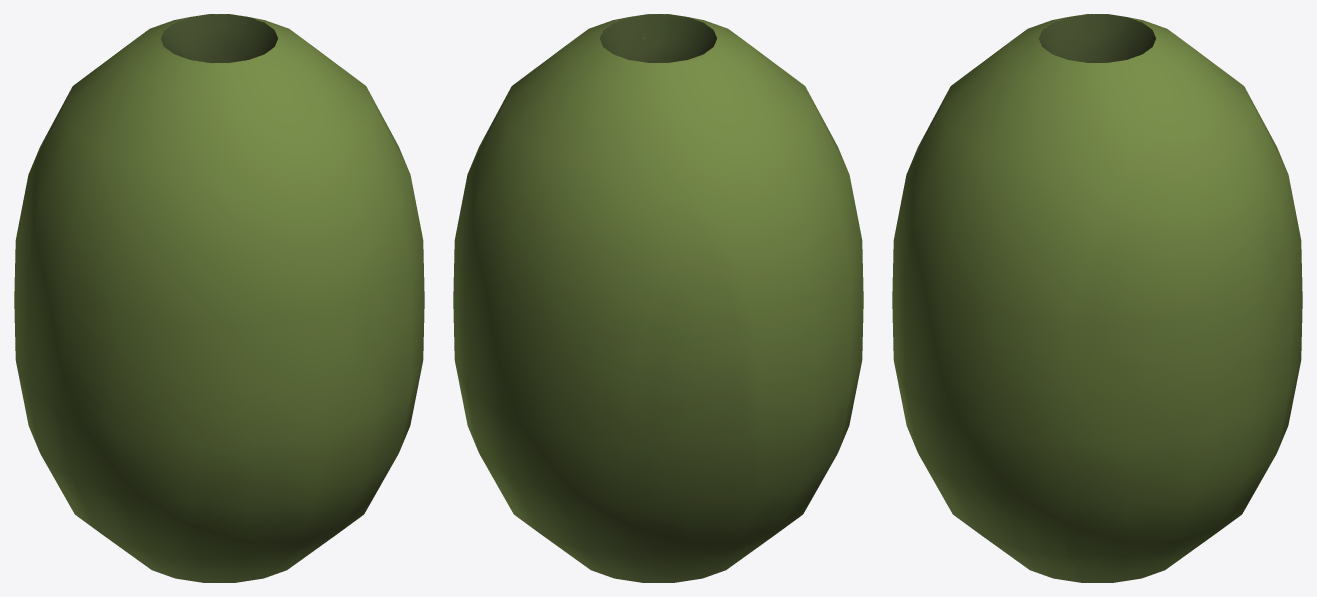
Rendered from Aceituna.fbx.
3 renders of one model, left to right at view 1: azimuth 30°, elevation 25°; view 2: azimuth 150°, elevation 25°; view 3: azimuth 270°, elevation 25°, orthographic.
Visible parts, largest first — view 1: Aceituna; view 2: Aceituna; view 3: Aceituna.
Boxes of the visible parts, <box> form: Aceituna: <box>14,14,424,582</box>; Aceituna: <box>453,14,863,582</box>; Aceituna: <box>892,14,1302,582</box>.
Size of the model in its own units: 25.85 by 37.3 by 26.24.
